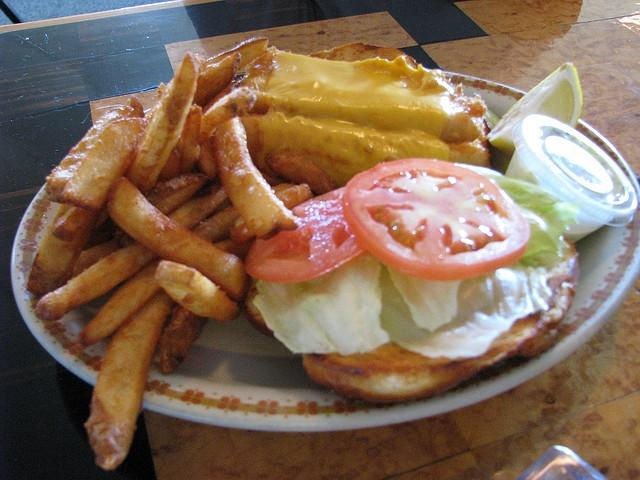lemon: (486, 61, 583, 158)
lettuce: (379, 261, 552, 361), (252, 251, 388, 355), (456, 164, 583, 268), (382, 262, 462, 334)
tomato: (341, 158, 530, 280), (243, 186, 368, 282)
